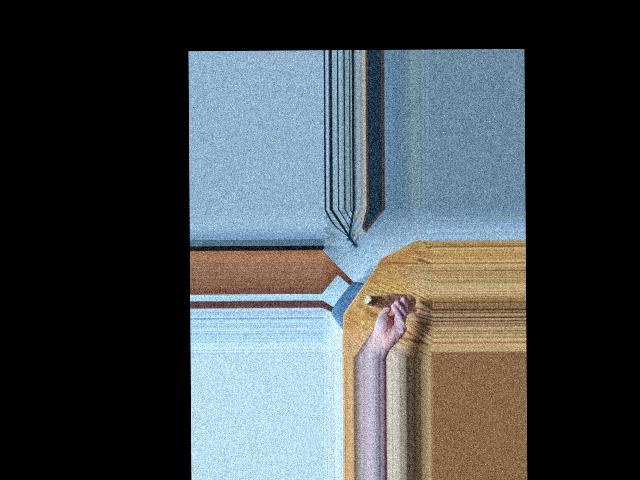sweet_potato: (367, 289, 412, 311)
